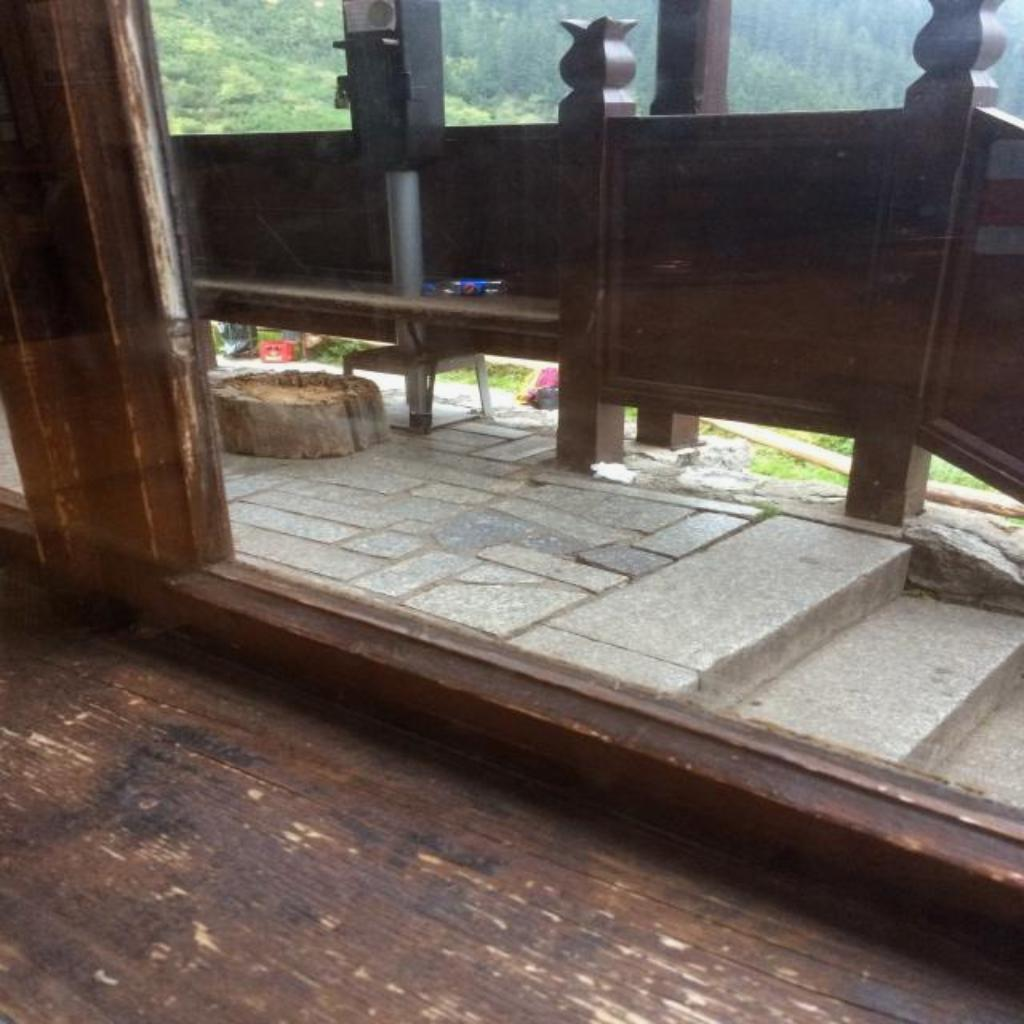garbage: (429, 273, 506, 304)
